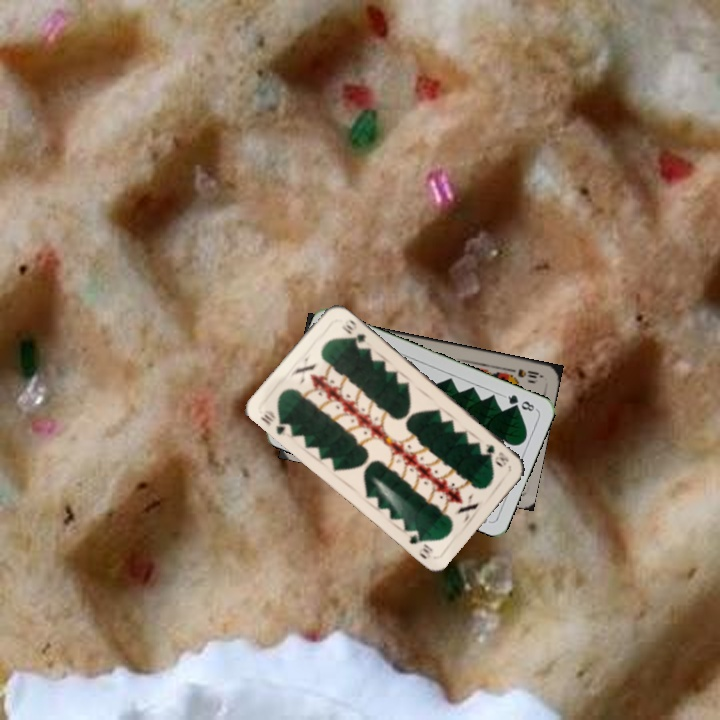G10: (256, 406, 294, 437), (481, 439, 511, 469)
G8: (500, 390, 539, 414)
S10: (504, 364, 545, 381)
